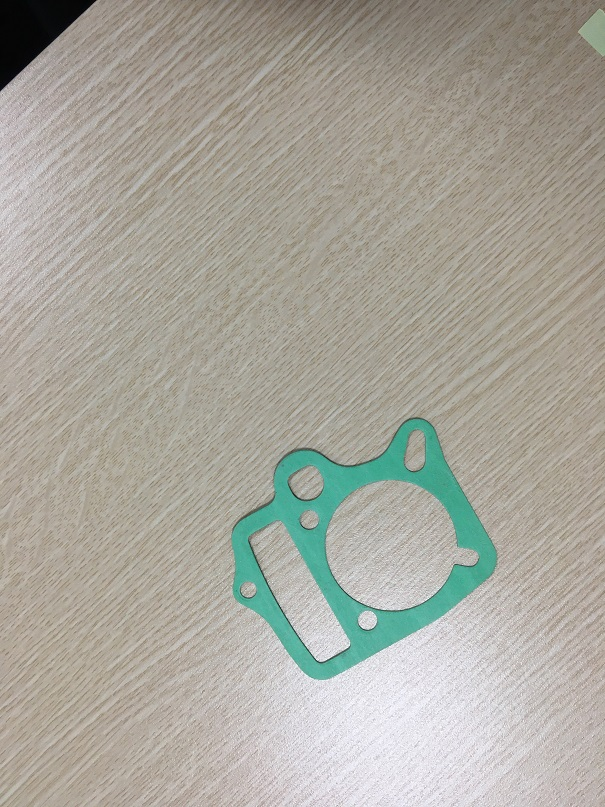type4: (213, 413, 506, 685)
